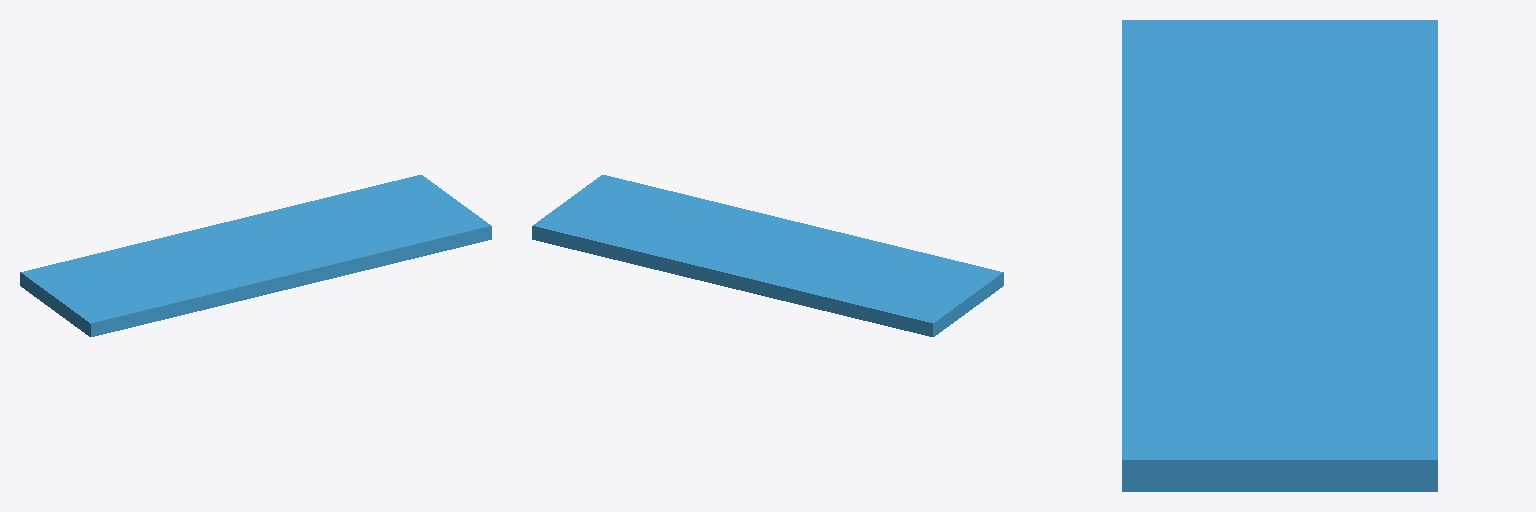
The robot description file, URDF, robot "cylinder_28":
    
    <robot name="cylinder_28">
        <link name="cylinder_28">    
            <fem>
                <origin rpy="0.0 0.0 0.0" xyz="0 0 0" />
                <density value="100" />
                <youngs value="778"/>
                <poissons value="0.3" />
                <damping value="0.0" />
                <attachDistance value="0.01" />
                <tetmesh filename="[local-path]/sim_data/Custom/Custom_mesh/multi_cylinder_1kPa/cylinder_28.tet" />
                <scale value="0.5"/>
            </fem>
        </link>

        <link name="fix_frame">
            <visual>
                <origin xyz="0.0 0.0 10.071175568549632"/>
                <geometry>
                    <box size="0.15 0.04543454281335901 0.005"/>
                </geometry>
            </visual>
            <collision>
                <origin xyz="0.0 0.0 0.0711755685496317"/>
                <geometry>
                    <box size="0.15 0.04543454281335901 0.005"/>
                </geometry>
            </collision>
            <inertial>
                <mass value="500000"/>
                <inertia ixx="0.05" ixy="0.0" ixz="0.0" iyy="0.05" iyz="0.0" izz="0.05"/>
            </inertial>
        </link>
        
        <joint name = "attach" type = "fixed">
            <origin xyz = "0.0 0.0 0.0" rpy = "0 0 0"/>
            <parent link ="cylinder_28"/>
            <child link = "fix_frame"/>
        </joint>  




    </robot>
    

--- What the picture shows (computed from the rendered views, not written in the file) ---
The picture shows the robot from 3 angles, left to right: view 1: azimuth 30°, elevation 25°; view 2: azimuth 150°, elevation 25°; view 3: azimuth 270°, elevation 25°; orthographic projection.
Model cylinder_28 with 2 links and 1 joints (1 fixed), rooted at cylinder_28, posed all joints at 0.
Visible links, largest first — view 1: fix_frame; view 2: fix_frame; view 3: fix_frame.
Boxes of the visible links, x1,y1,x2,y2 form: fix_frame: [20, 175, 491, 336]; fix_frame: [532, 175, 1003, 336]; fix_frame: [1122, 20, 1437, 491].
Size in the robot's own frame: 0.15 by 0.0454 by 0.005 metres.
Geometry: primitives only (box / cylinder / sphere), no mesh files.
